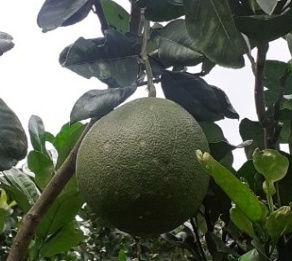Buoi: (74, 94, 214, 237)
